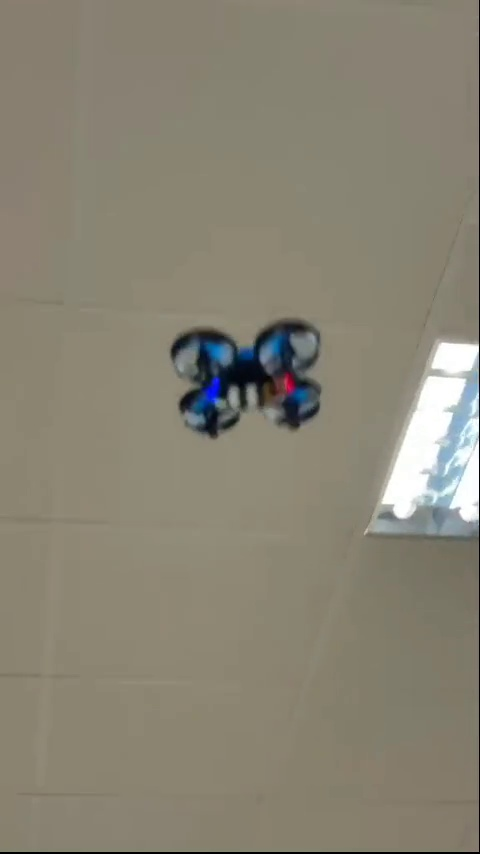drone: (168, 325, 330, 436)
